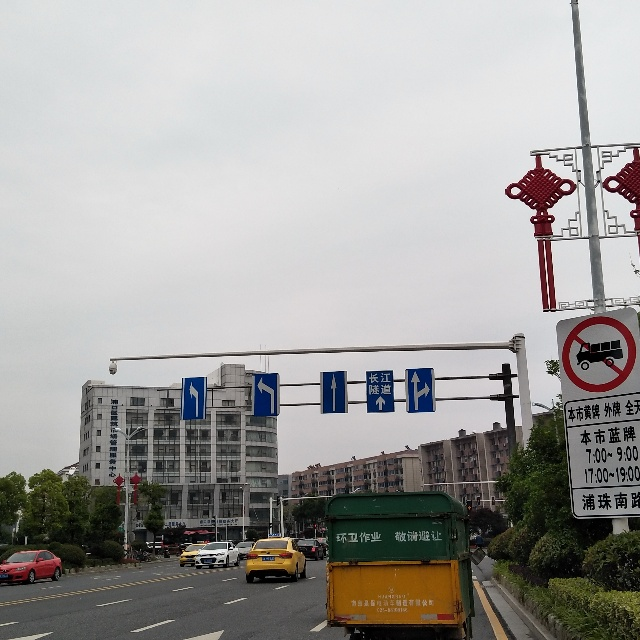left: (250, 373, 280, 417), (181, 377, 206, 419)
straight: (320, 372, 347, 414)
